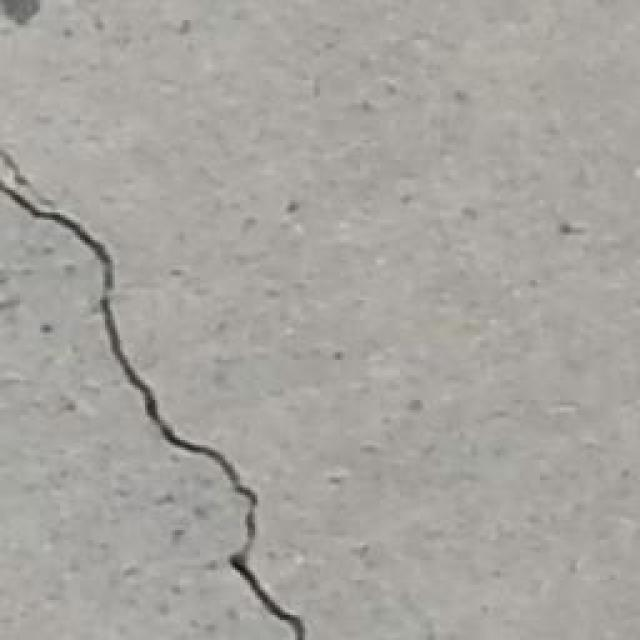concrete-crack: (0, 149, 314, 640)
